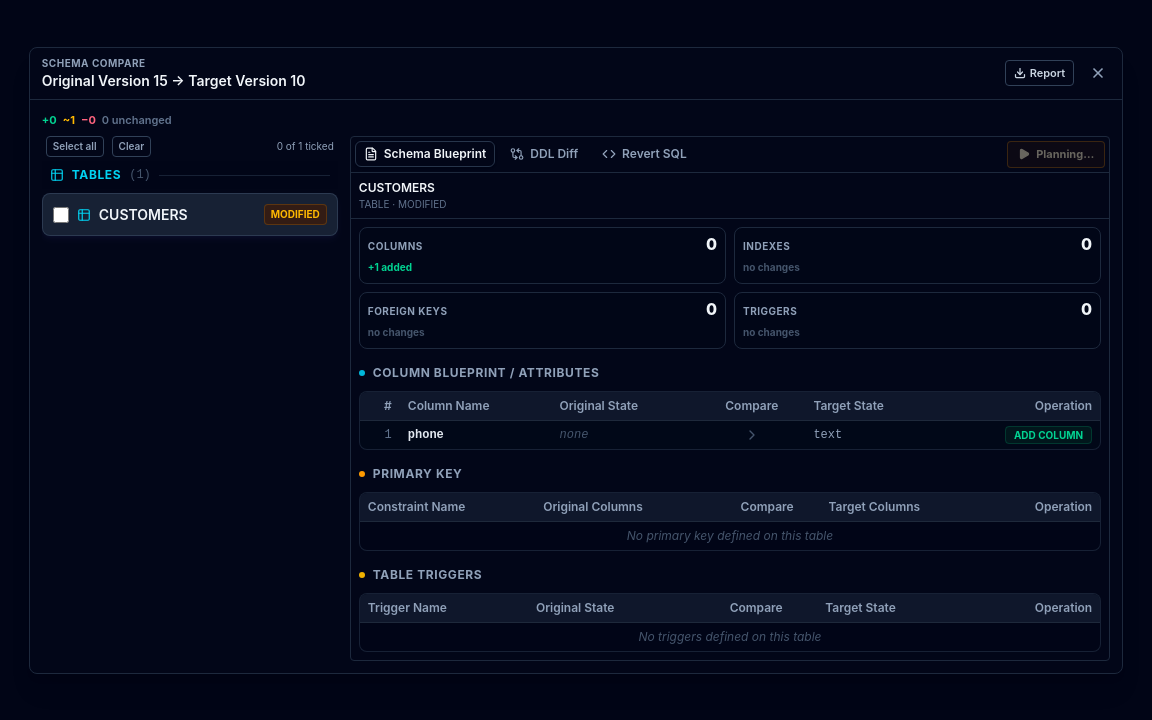
the run button names where it goes › calls a plan that destroys nothing an update, not a revert
The image size is (1152, 720).
Expected: the button with test id "lokee-cmp-run-revert" is shown, [1007,141,1105,168]
Click the button with test id "lokee-cmp-select-all".
click(75, 146)  # box [46,136,104,157]
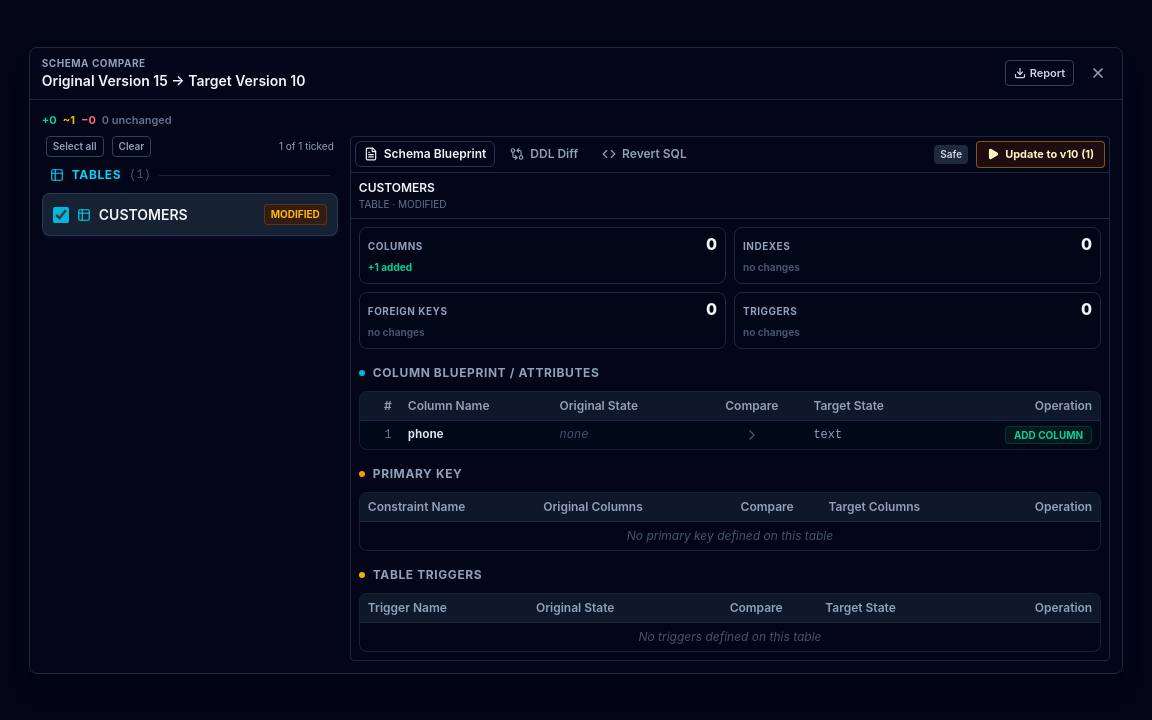
Now the button with test id "lokee-cmp-run-revert" shows "Update to v10", box [976,141,1105,168]
